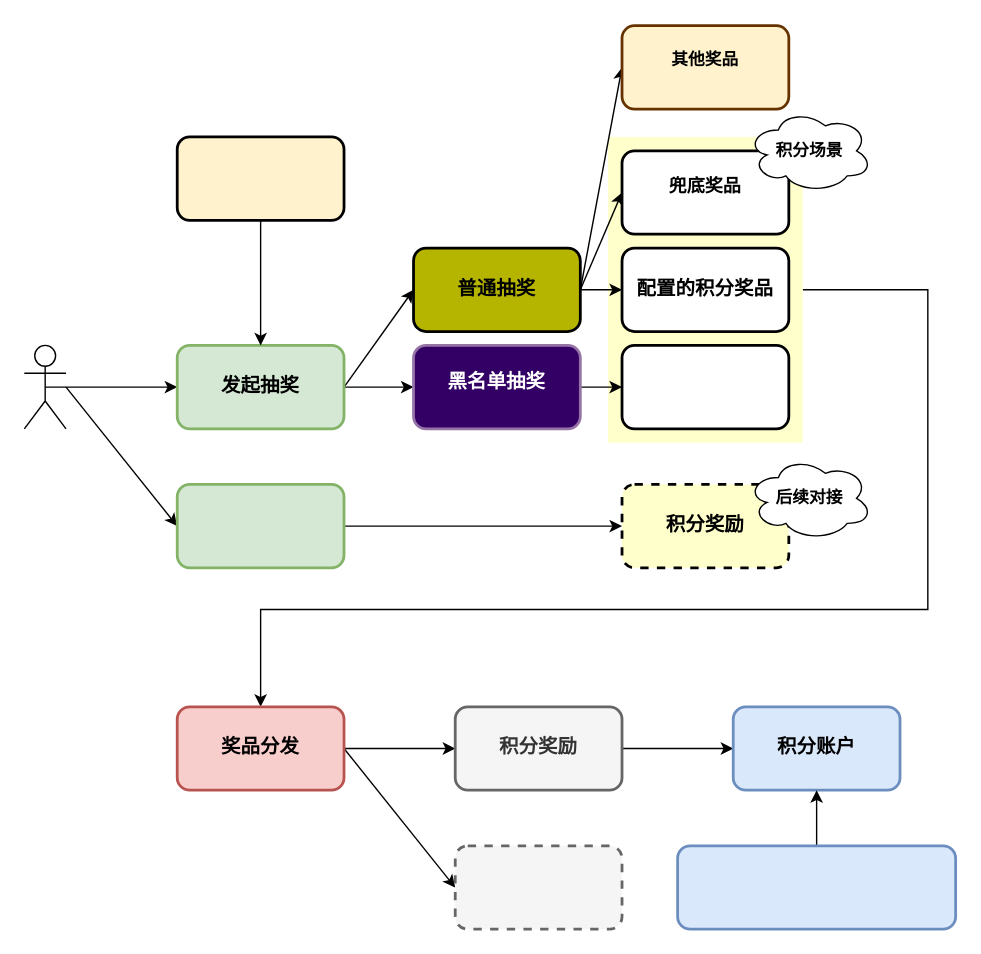
The diagram is 981 pixels wide and 954 high, and some of its shapes have lost their labels. Here are the shapes that lost their labels. From the top down, the centre of each, then its label:
point 260,178: 签到->抽奖资格
point 44,386: 用户
point 705,386: 0.01~1积分 配置到代码里
point 260,525: 发起签到
point 538,887: 其他奖励
point 816,887: sku : 100积分 - 1次抽奖
